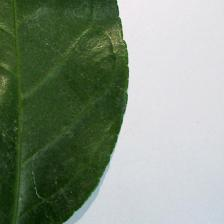healthy: (1, 1, 130, 224)
